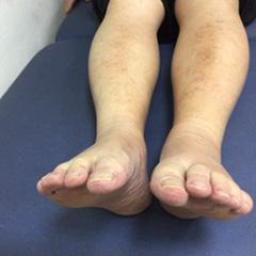Front View -Both Feet-: (31, 100, 253, 241)
